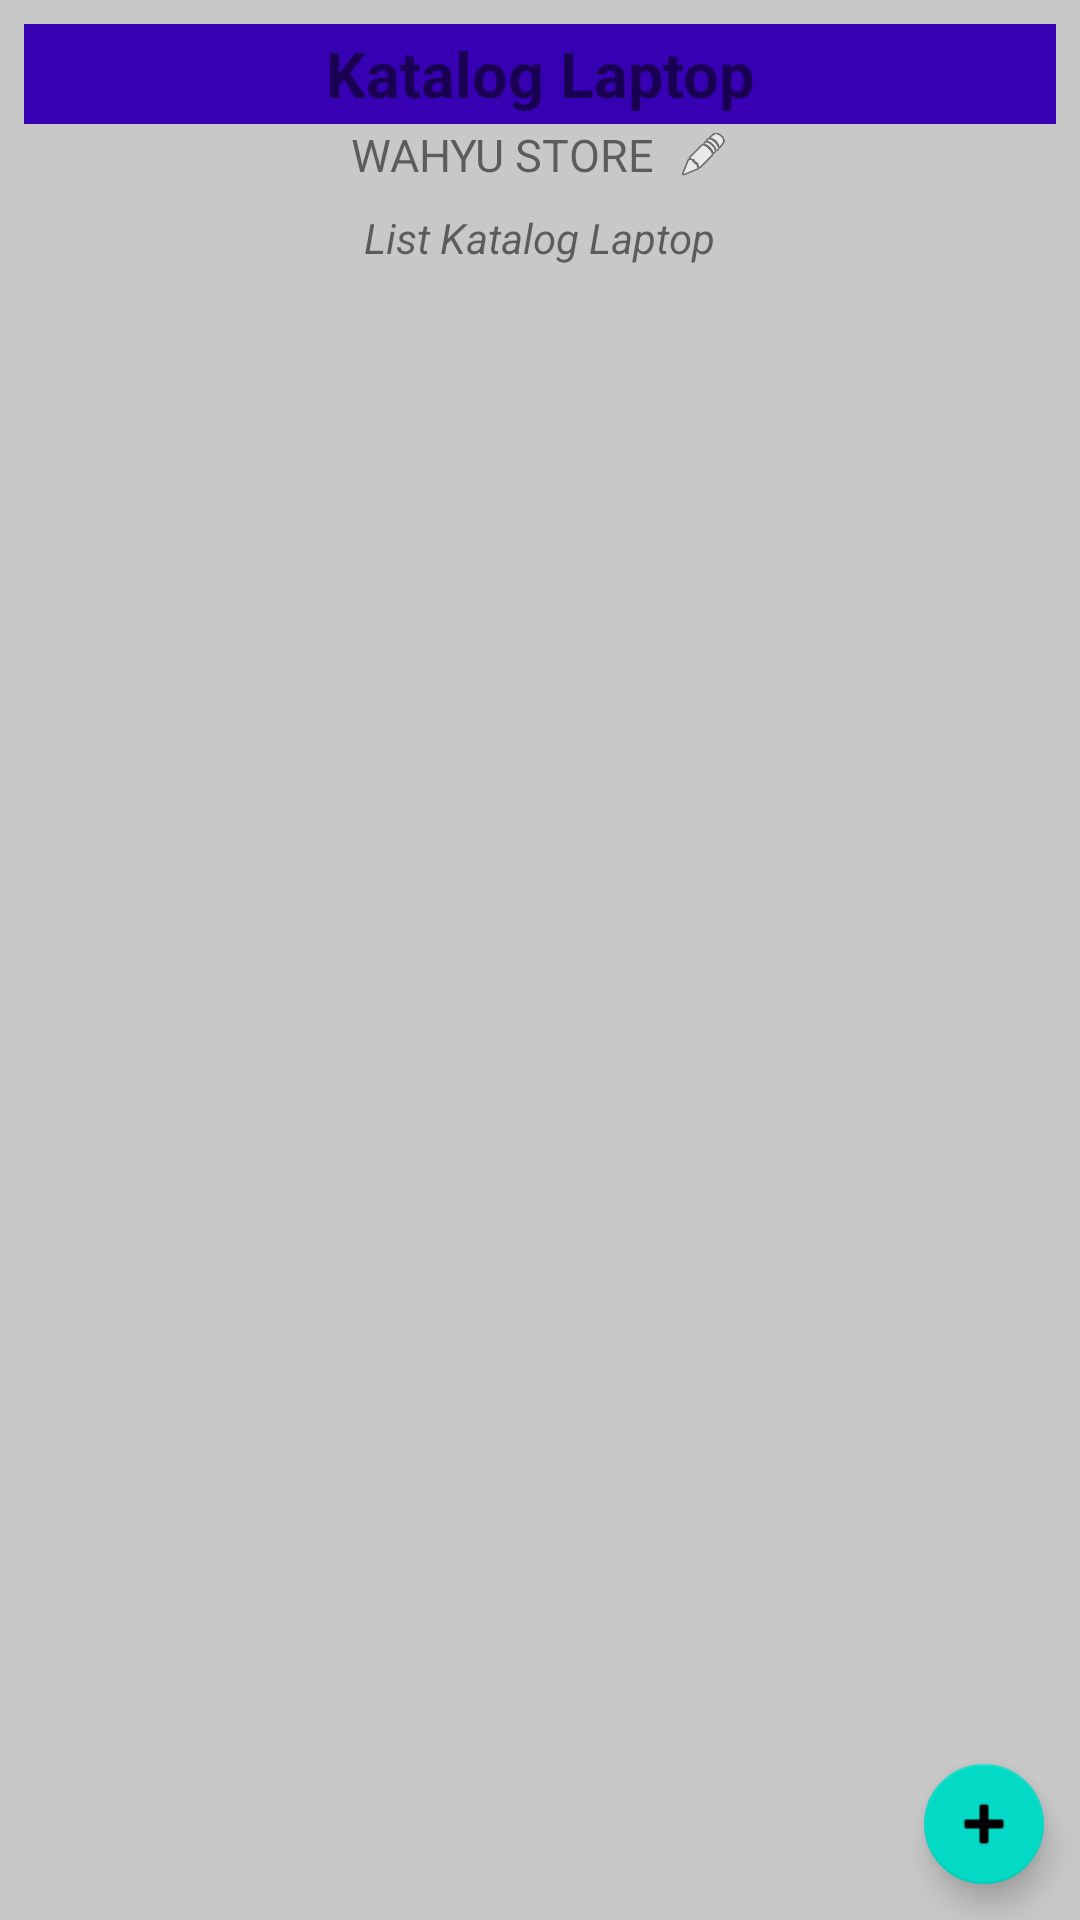

Locate icon controls on the screen. Image size 1080px x 1920px, boxes as (x1, y1, x2, y2).
add: (924, 1764, 1044, 1896)
edit: (682, 133, 725, 176)
